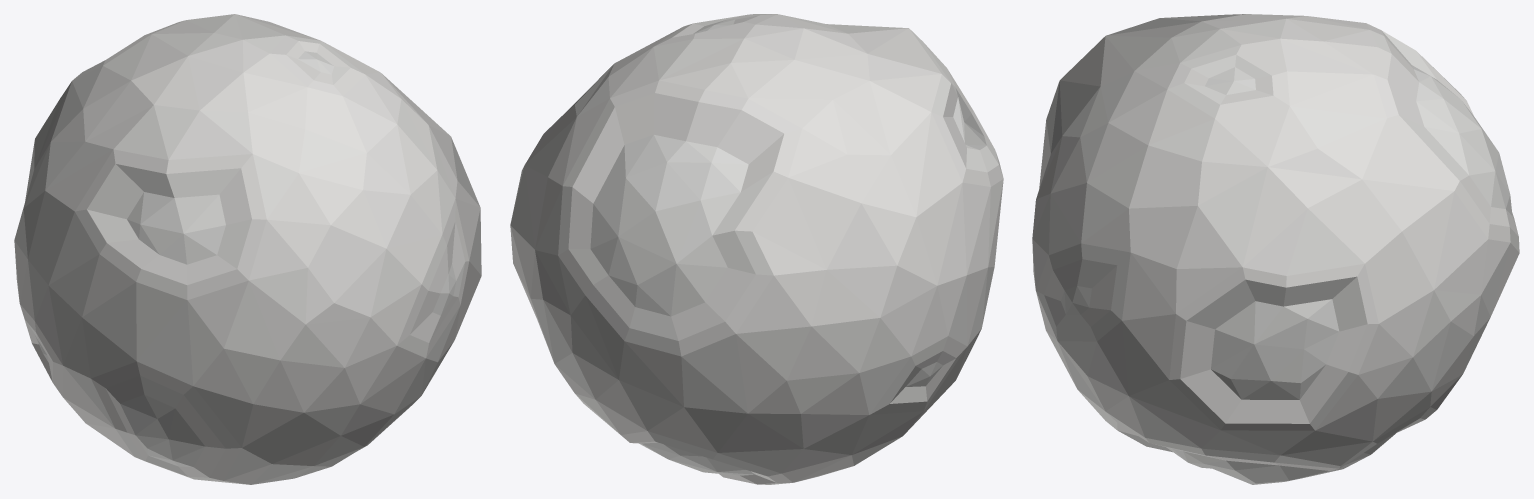
The model's file is Mars-One_title_moon (1).FBX.
The picture shows the model from 3 angles, left to right: view 1: azimuth 30°, elevation 25°; view 2: azimuth 150°, elevation 25°; view 3: azimuth 270°, elevation 25°; orthographic projection. The views are drawn at different scales.
Parts seen in each view (by area): view 1: Object002; view 2: Object002; view 3: Object002.
Boxes of the visible parts, x1,y1,x2,y2 form: Object002: (14, 14, 481, 484); Object002: (510, 14, 1003, 484); Object002: (1032, 14, 1519, 484).
Bounding box in the file's own units: 0.9729 × 0.967 × 0.9961.
1 material, 1 textured.
